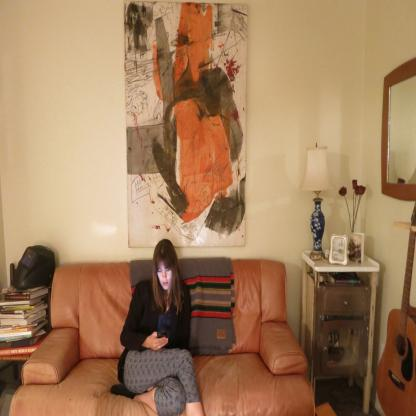book: (0, 287, 51, 345)
